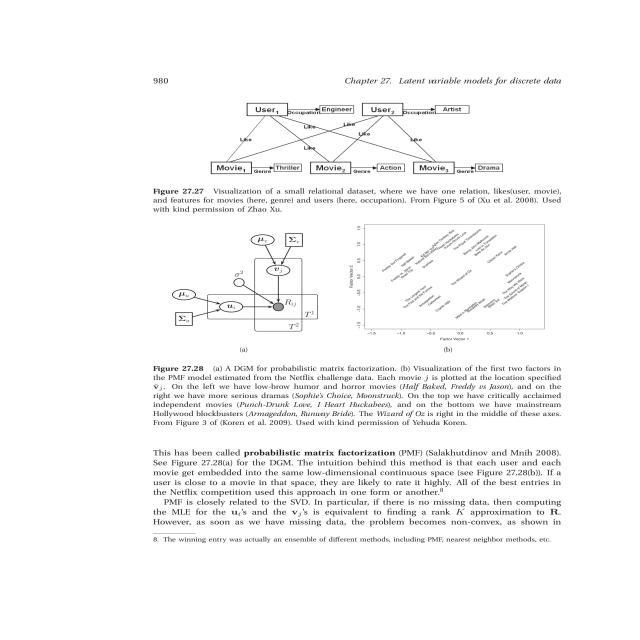diagram: (123, 89, 569, 441)
